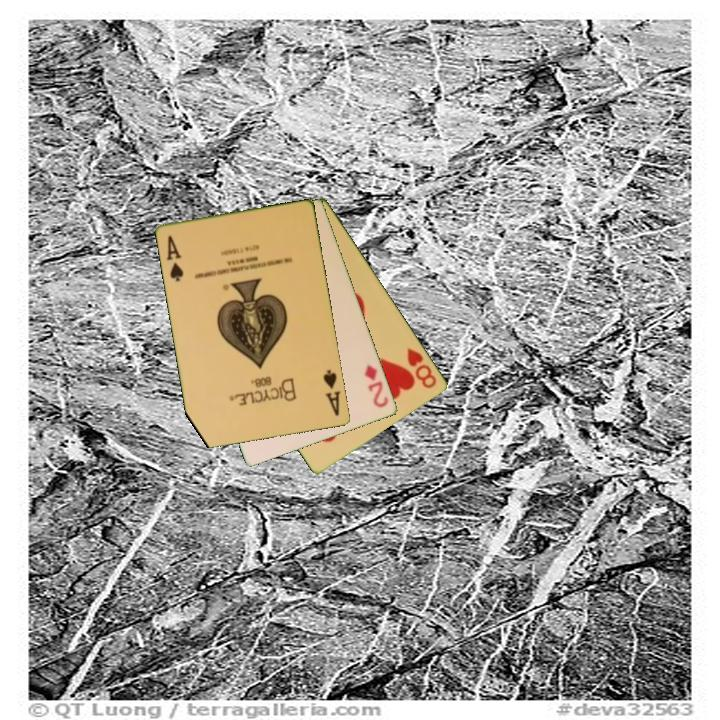2d: (361, 361, 392, 411)
8h: (404, 344, 440, 392)
As: (320, 366, 344, 419), (163, 232, 187, 285)
